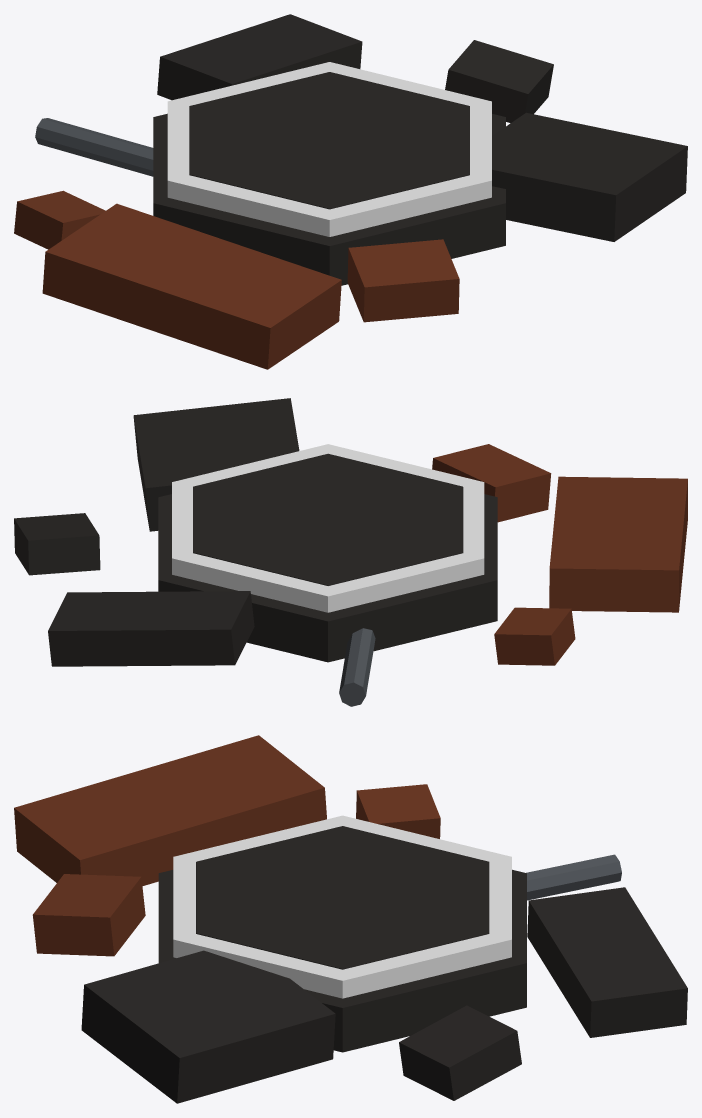
The model's file is RF_Structure_Turret_Destroyed.glb.
3 renders of one model, top to bottom at view 1: azimuth 30°, elevation 25°; view 2: azimuth 150°, elevation 25°; view 3: azimuth 270°, elevation 25°, orthographic. The views are drawn at different scales.
Visible parts, largest first — view 1: RF_Structure_Turret_Destroyed, TeamTrim; view 2: RF_Structure_Turret_Destroyed, TeamTrim; view 3: RF_Structure_Turret_Destroyed, TeamTrim.
Boxes of the visible parts, x1=… form: RF_Structure_Turret_Destroyed: x1=14, y1=14, x2=687, y2=369; TeamTrim: x1=167, y1=62, x2=491, y2=236; RF_Structure_Turret_Destroyed: x1=14, y1=398, x2=687, y2=706; TeamTrim: x1=172, y1=444, x2=484, y2=612; RF_Structure_Turret_Destroyed: x1=14, y1=735, x2=687, y2=1103; TeamTrim: x1=173, y1=815, x2=511, y2=998.
Size of the model in its own units: 4.47 by 0.44 by 4.12.
